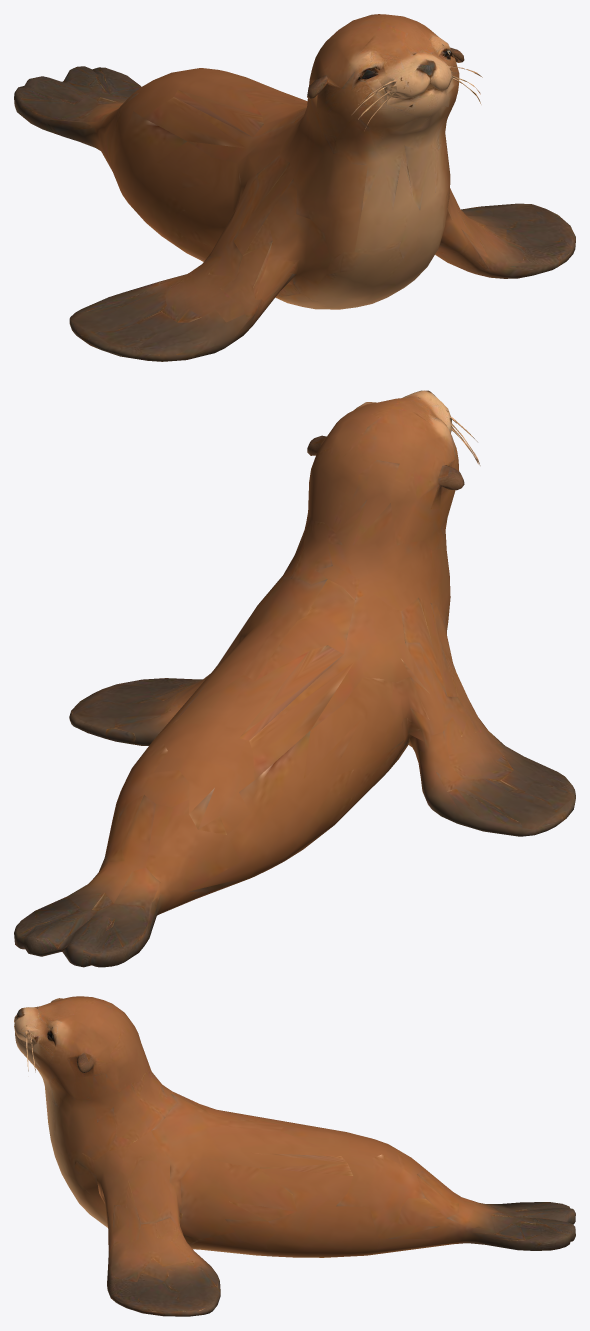
File: sea-lion.glb
3 renders of one model, top to bottom at view 1: azimuth 30°, elevation 25°; view 2: azimuth 150°, elevation 25°; view 3: azimuth 270°, elevation 25°, orthographic. The views are drawn at different scales.
Visible parts, largest first — view 1: sea-lion; view 2: sea-lion; view 3: sea-lion.
Part boxes in pixels (left/top/right/bottom): sea-lion: left=14, top=14, right=575, bottom=361; sea-lion: left=14, top=390, right=575, bottom=967; sea-lion: left=14, top=996, right=575, bottom=1316.
Size of the model in its own units: 1.18 by 0.7494 by 1.6.
1 material, 1 textured.
